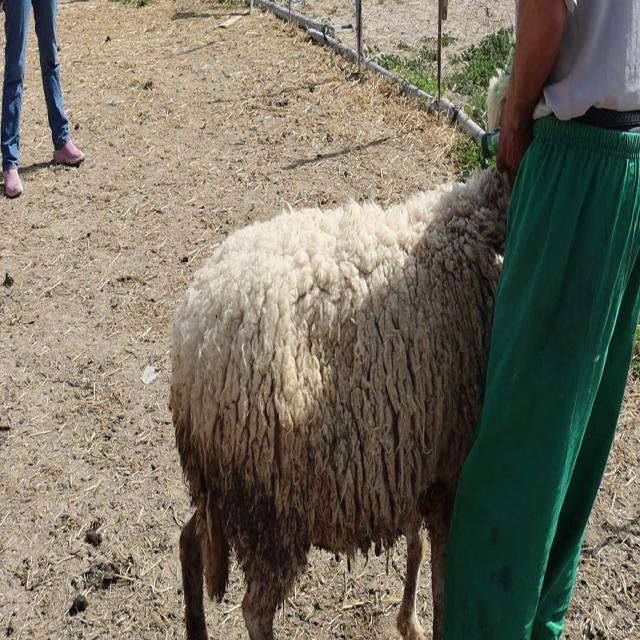Score_4: (169, 167, 512, 639)
